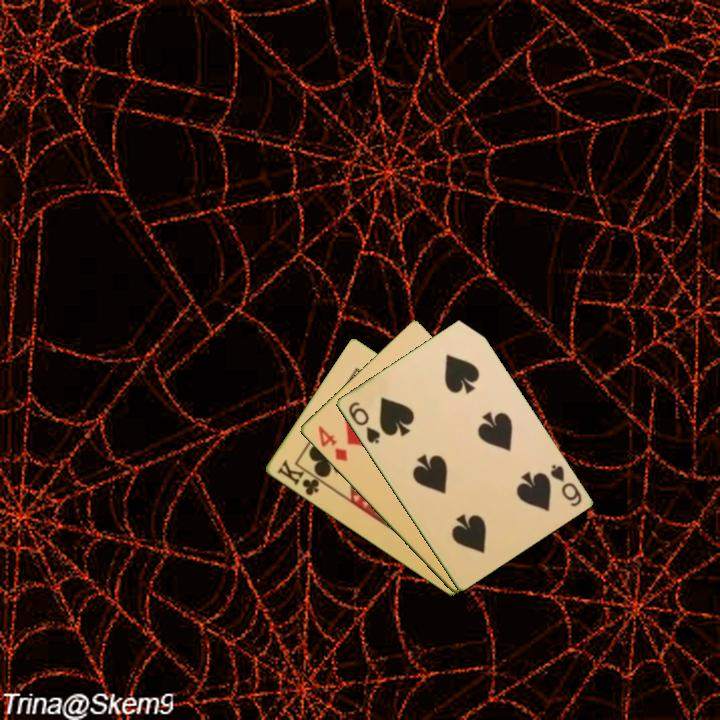4d: (314, 422, 350, 464)
6s: (344, 398, 383, 447), (546, 461, 584, 510)
Kc: (273, 456, 327, 499)
